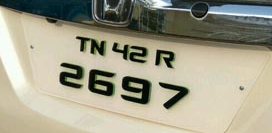2: (58, 61, 84, 90), (128, 44, 147, 64)
4: (111, 40, 129, 61)
6: (86, 68, 117, 98)
7: (158, 81, 189, 110)
9: (120, 75, 152, 105)
N: (89, 37, 106, 57)
R: (153, 48, 176, 69)
T: (73, 35, 89, 52)
